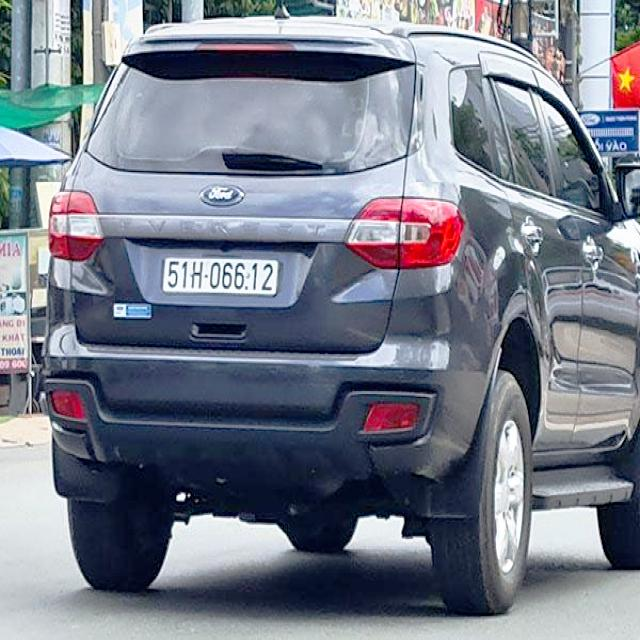license_plate: (162, 258, 280, 296)
